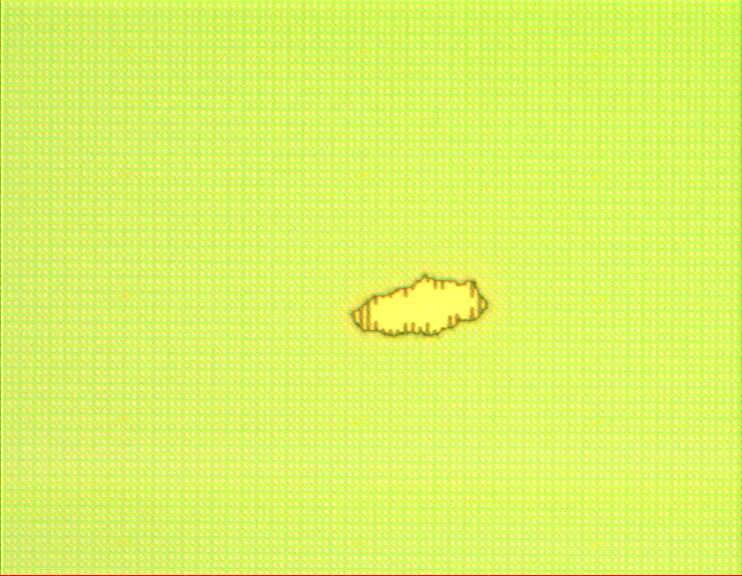BLOCK ETCH: (349, 271, 493, 344)
